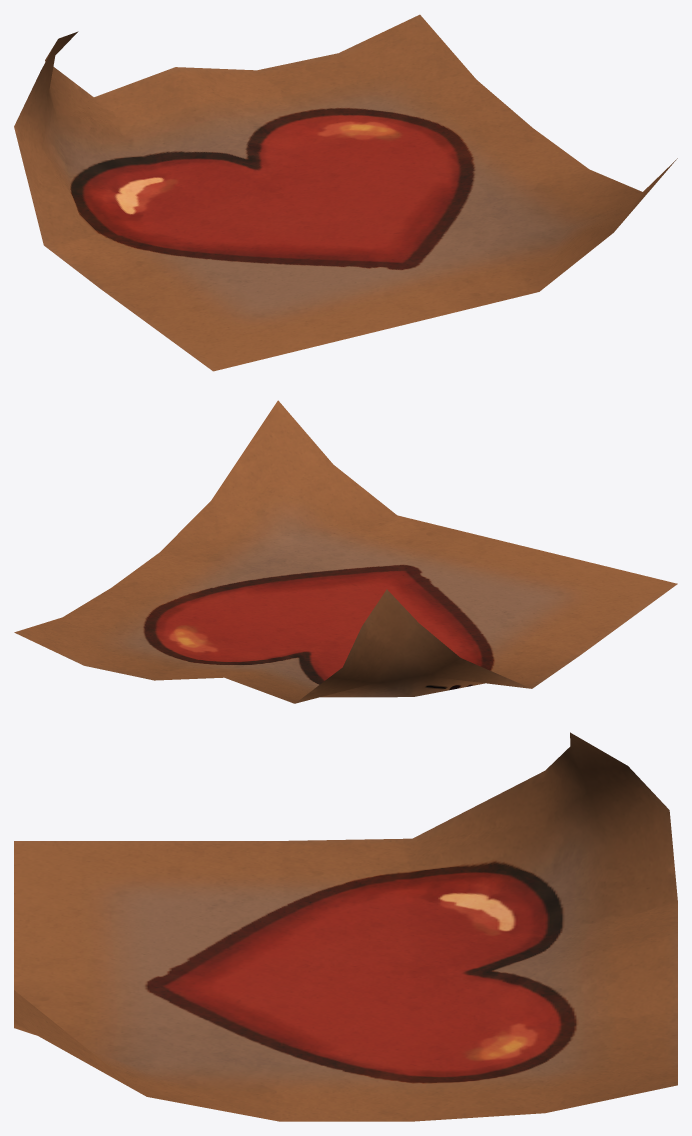
The model's file is heart_note.glb.
The picture shows the model from 3 angles, top to bottom: view 1: azimuth 30°, elevation 25°; view 2: azimuth 150°, elevation 25°; view 3: azimuth 270°, elevation 25°; orthographic projection. The views are drawn at different scales.
Visible parts, largest first — view 1: POST IT FRONT, POST IT BACK; view 2: POST IT FRONT, POST IT BACK; view 3: POST IT FRONT, POST IT BACK.
Part boxes in pixels (bbox=[...]): POST IT FRONT: bbox=[14, 14, 677, 371]; POST IT BACK: bbox=[14, 56, 54, 126]; POST IT FRONT: bbox=[14, 400, 677, 703]; POST IT BACK: bbox=[30, 623, 531, 703]; POST IT FRONT: bbox=[14, 746, 677, 1121]; POST IT BACK: bbox=[14, 732, 668, 1121].
Bounding box in the file's own units: 0.076 × 0.0211 × 0.076.
Materials: 2 (2 with a texture image).
